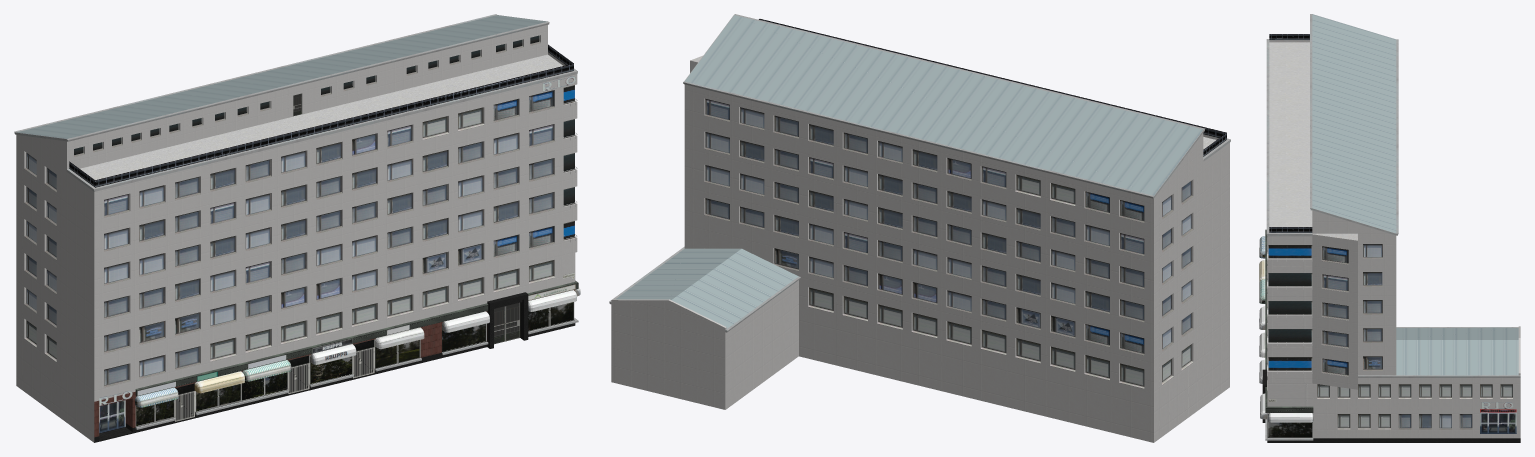
The model's file is isokatu_12.dae.
The picture shows the model from 3 angles, left to right: view 1: azimuth 30°, elevation 25°; view 2: azimuth 150°, elevation 25°; view 3: azimuth 270°, elevation 25°; orthographic projection. The views are drawn at different scales.
Visible parts, largest first — view 1: Object_1; view 2: Object_1; view 3: Object_1.
Boxes of the visible parts, bbox=[...] form: Object_1: bbox=[14, 14, 580, 442]; Object_1: bbox=[609, 14, 1230, 442]; Object_1: bbox=[1259, 14, 1520, 442].
Size of the model in its own units: 47.68 by 26.16 by 25.92.
10 materials, 10 textured.
